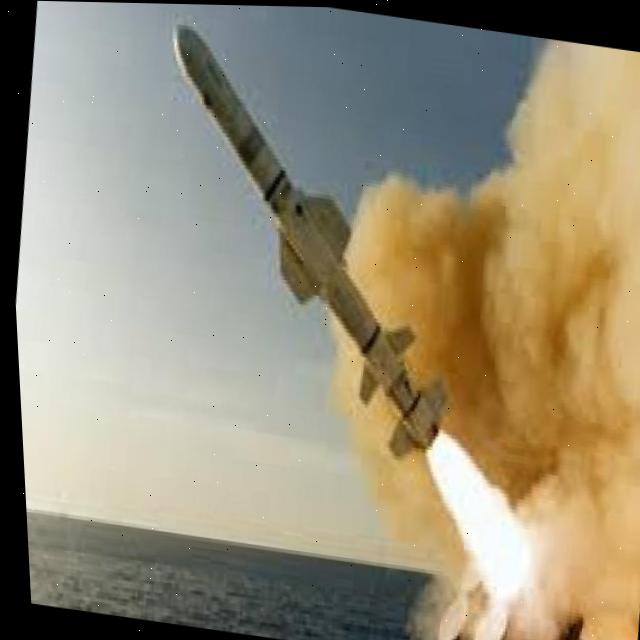missile: (116, 15, 499, 465)
